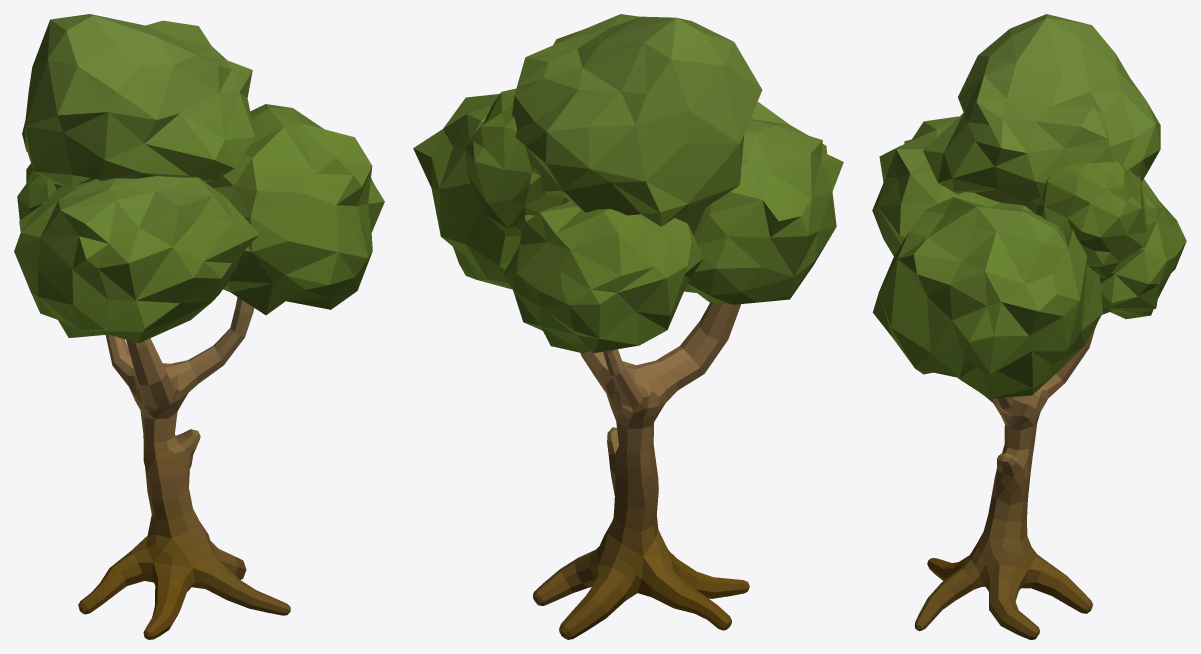
File: SM_Tree_C.glb
The picture shows the model from 3 angles, left to right: view 1: azimuth 30°, elevation 25°; view 2: azimuth 150°, elevation 25°; view 3: azimuth 270°, elevation 25°; orthographic projection. The views are drawn at different scales.
Parts seen in each view (by area): view 1: SM_Tree_C; view 2: SM_Tree_C; view 3: SM_Tree_C.
Boxes of the visible parts, bbox=[...] form: SM_Tree_C: bbox=[14, 14, 384, 639]; SM_Tree_C: bbox=[413, 14, 843, 639]; SM_Tree_C: bbox=[872, 14, 1186, 639].
Size of the model in its own units: 8.99 by 14.23 by 7.25.
1 material, 1 textured.
